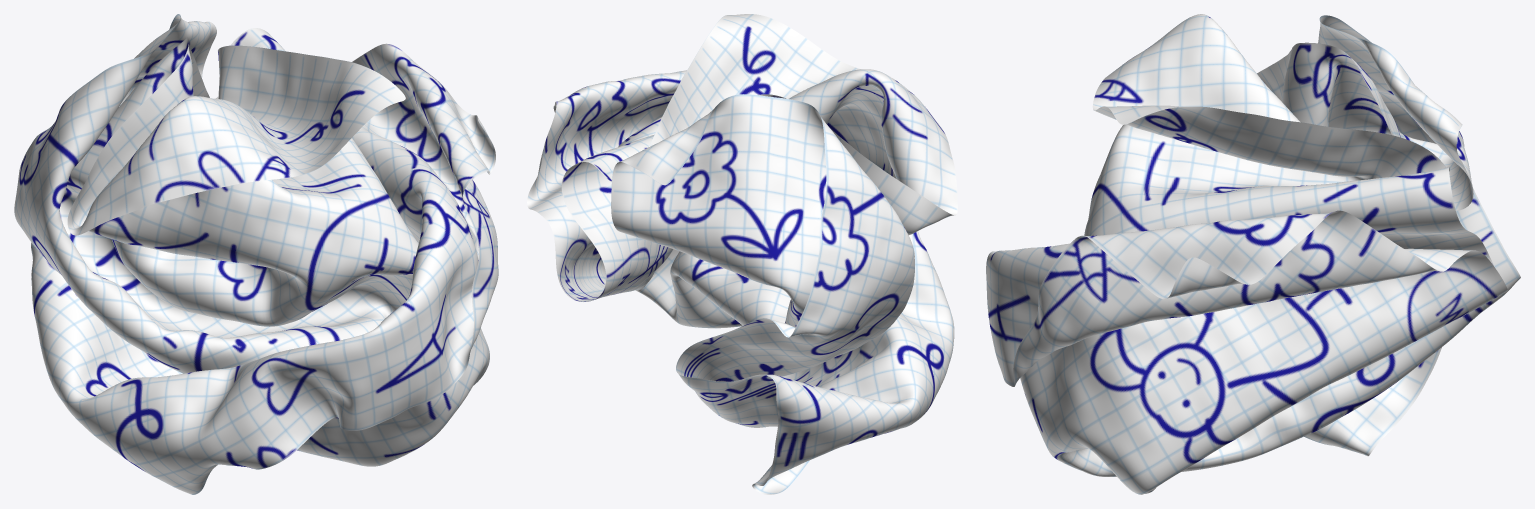
The model's file is Crumple_001.fbx.
The picture shows the model from 3 angles, left to right: view 1: azimuth 30°, elevation 25°; view 2: azimuth 150°, elevation 25°; view 3: azimuth 270°, elevation 25°; orthographic projection. The views are drawn at different scales.
Parts seen in each view (by area): view 1: paper2; view 2: paper2; view 3: paper2.
Boxes of the visible parts, x1=… form: paper2: x1=14, y1=14, x2=498, y2=494; paper2: x1=527, y1=14, x2=957, y2=494; paper2: x1=986, y1=14, x2=1520, y2=494.
Bounding box in the file's own units: 89.9 × 85.7 × 95.82.
